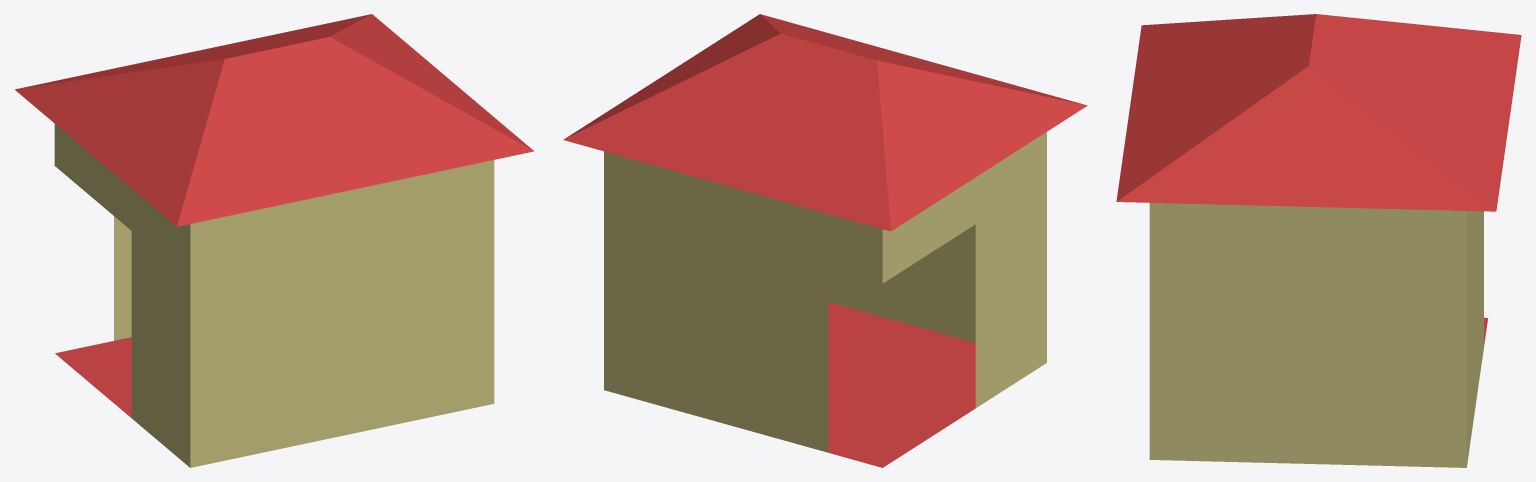
3 views of the same model, side by side, from view 1: azimuth 30°, elevation 25°; view 2: azimuth 150°, elevation 25°; view 3: azimuth 270°, elevation 25° (orthographic). The views are drawn at different scales.
Visible parts, largest first — view 1: group_5, group_3, group_4, group_6; view 2: group_5, group_3, group_6, group_4; view 3: group_5, group_3, group_4.
Part boxes in pixels (box(x1,y1,x2,y2)): group_5: box(54, 124, 494, 467); group_3: box(15, 14, 533, 226); group_4: box(16, 14, 533, 226); group_6: box(55, 337, 131, 417); group_5: box(604, 132, 1046, 452); group_3: box(564, 14, 1087, 231); group_6: box(828, 302, 975, 467); group_4: box(563, 14, 1084, 231); group_5: box(1149, 203, 1483, 467); group_3: box(1117, 14, 1495, 211); group_4: box(1116, 23, 1521, 211).
Size of the model in its own units: 14.01 by 12.87 by 12.22.
